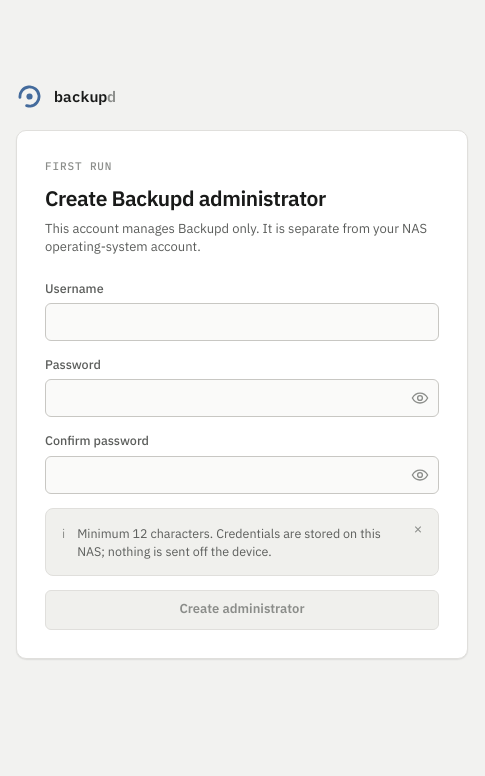
Test: enrolment says why it refused › sends an operator who has already enrolled to sign in, not to mint another token
Type "bm-admin" into the field labelled "Username" at (242, 322), box x1=45 y1=303 x2=439 y2=341
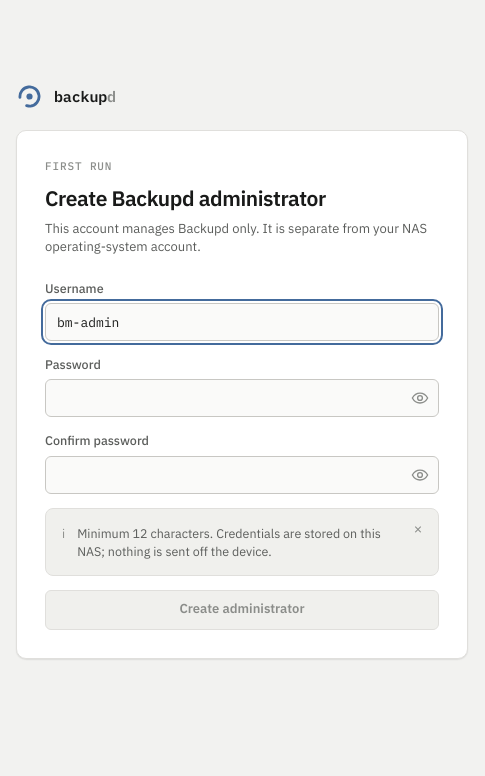
Type "a-long-enough-passphrase" into the password field labelled "Password" at (242, 398), box x1=45 y1=380 x2=439 y2=418
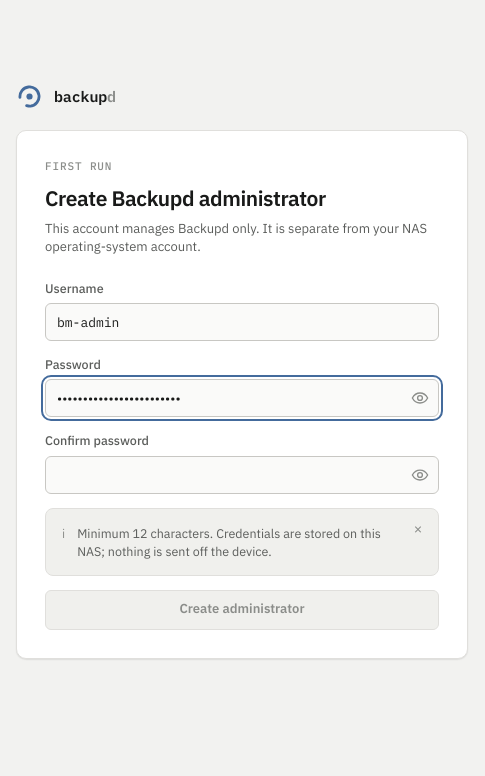
Type "a-long-enough-passphrase" into the password field labelled "Confirm password" at (242, 475), box x1=45 y1=456 x2=439 y2=494
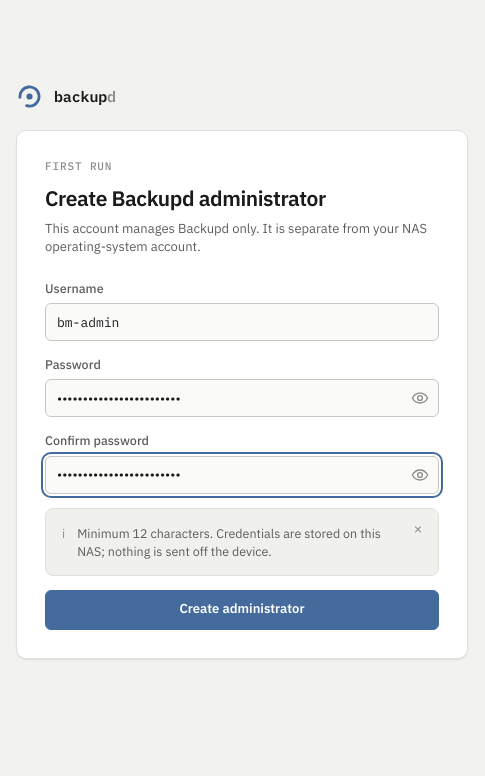
Click the button "Create administrator" at (242, 610), box x1=45 y1=590 x2=439 y2=630
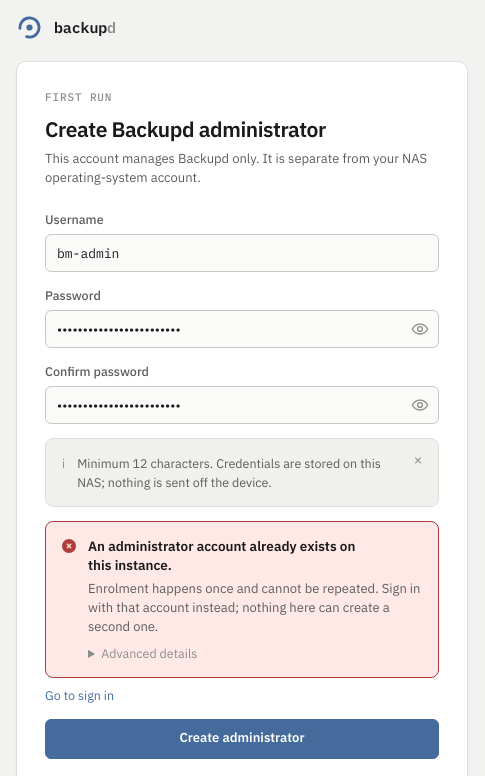
Expected: the text "An administrator account already exists on this instance." is shown, x1=88 y1=537 x2=355 y2=574
Expected: the link "Go to sign in" is shown, x1=45 y1=688 x2=114 y2=704
